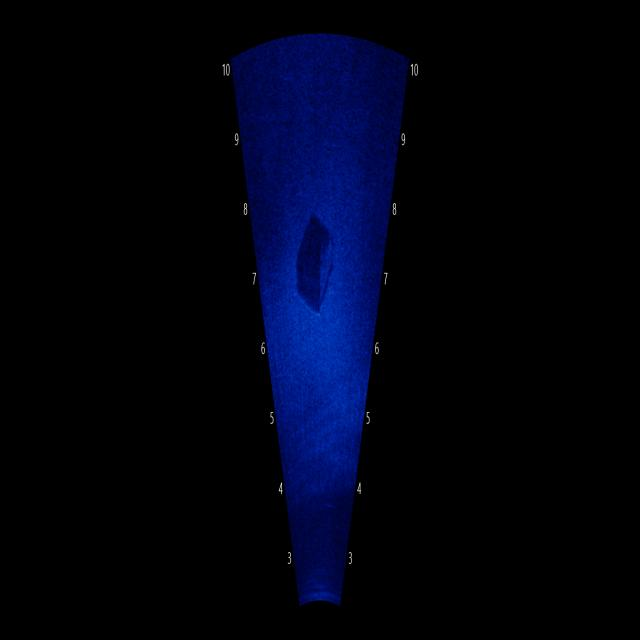square: (284, 180, 345, 328)
